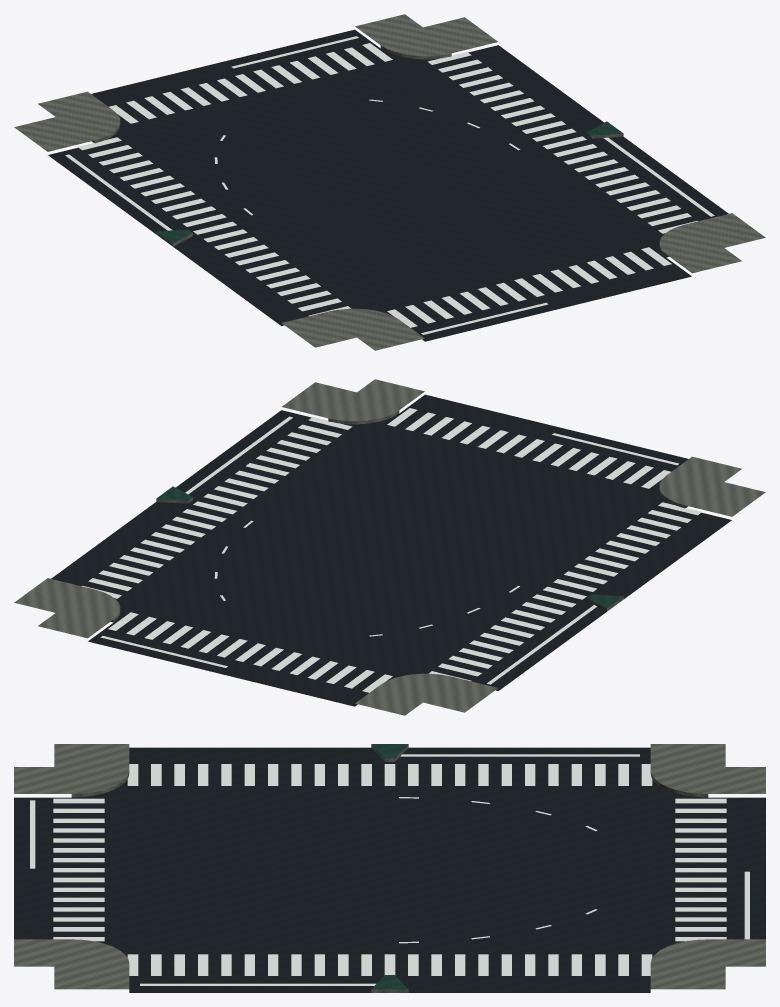
Rendered from junc_cross_6x4_LOD0.glb.
3 renders of one model, top to bottom at view 1: azimuth 30°, elevation 25°; view 2: azimuth 150°, elevation 25°; view 3: azimuth 270°, elevation 25°, orthographic. The views are drawn at different scales.
Parts seen in each view (by area): view 1: junc_cross_6x4__surface, junc_cross_6x4__crosswalk_paint, junc_cross_6x4__rounded_corner_curb, junc_cross_6x4__stop_line_paint, junc_cross_6x4__median_ends; view 2: junc_cross_6x4__surface, junc_cross_6x4__crosswalk_paint, junc_cross_6x4__rounded_corner_curb, junc_cross_6x4__stop_line_paint, junc_cross_6x4__median_ends; view 3: junc_cross_6x4__surface, junc_cross_6x4__crosswalk_paint, junc_cross_6x4__rounded_corner_curb, junc_cross_6x4__stop_line_paint, junc_cross_6x4__median_ends.
Part boxes in pixels (box(x1,y1,x2,y2)): junc_cross_6x4__surface: box(48, 29, 728, 341); junc_cross_6x4__crosswalk_paint: box(78, 43, 697, 327); junc_cross_6x4__rounded_corner_curb: box(14, 14, 765, 350); junc_cross_6x4__stop_line_paint: box(65, 36, 714, 334); junc_cross_6x4__median_ends: box(156, 121, 623, 246); junc_cross_6x4__surface: box(51, 394, 731, 706); junc_cross_6x4__crosswalk_paint: box(82, 408, 701, 692); junc_cross_6x4__rounded_corner_curb: box(14, 379, 765, 715); junc_cross_6x4__stop_line_paint: box(100, 416, 678, 684); junc_cross_6x4__median_ends: box(156, 486, 623, 611); junc_cross_6x4__surface: box(14, 747, 765, 992); junc_cross_6x4__crosswalk_paint: box(53, 764, 726, 975); junc_cross_6x4__rounded_corner_curb: box(14, 744, 765, 989); junc_cross_6x4__stop_line_paint: box(30, 754, 749, 985); junc_cross_6x4__median_ends: box(371, 744, 408, 992).
Bounding box in the file's own units: 21.6 × 0.145 × 28.
Materials: 5 (4 with a texture image).
